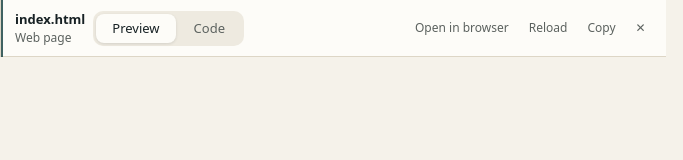
Scenario: the file viewer never stays stuck on a refused request › a refused open says why instead of staying on Opening…
What coordinates should you click on to do the following:
click the button "Open in browser"
I would click on:
 (462, 28)
Its box is x1=409 y1=17 x2=515 y2=39.
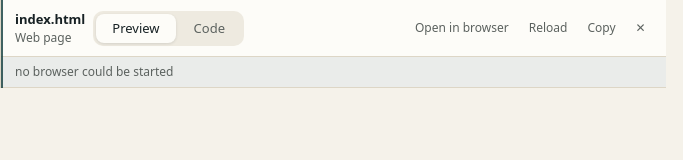
Expected: the text "no browser could be started" is shown, x1=1 y1=57 x2=666 y2=88
